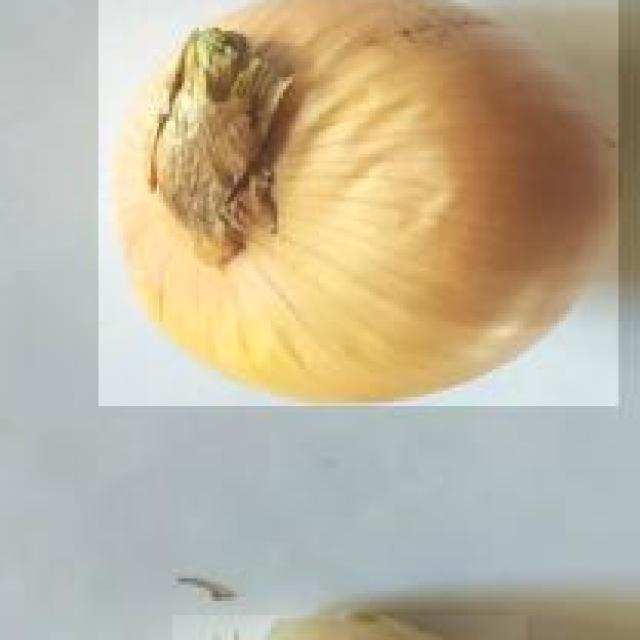onion: (101, 0, 624, 406)
